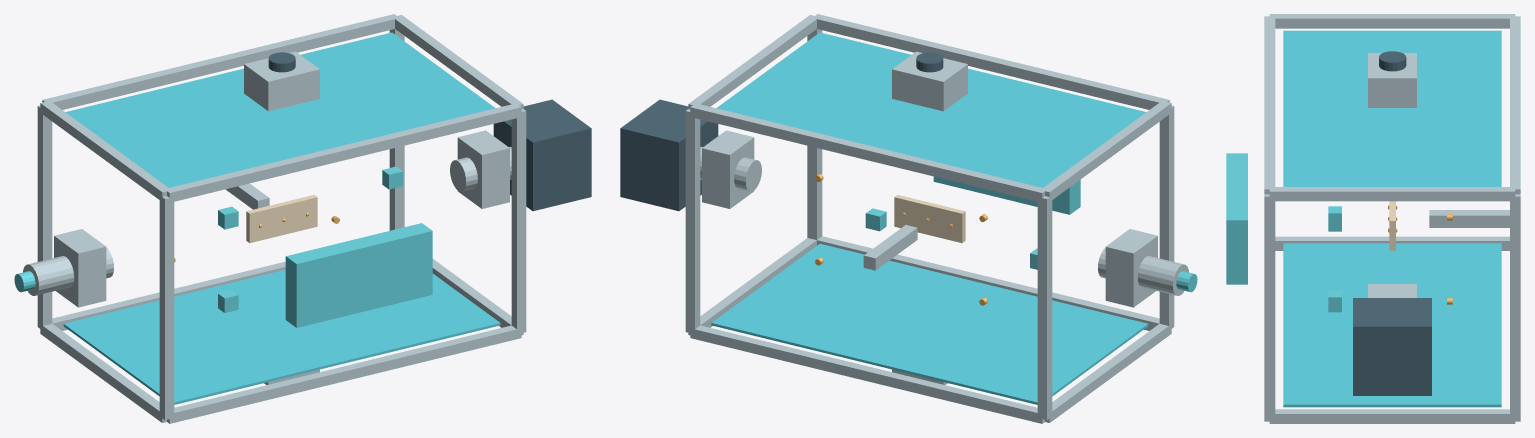
Rendered from EXTINCTION-PATHWAY-MAP-rig.glb.
3 views of the same model, side by side, from view 1: azimuth 30°, elevation 25°; view 2: azimuth 150°, elevation 25°; view 3: azimuth 270°, elevation 25° (orthographic).
Parts seen in each view (by area): view 1: window, frame, oxygen, dark, fuel; view 2: window, frame, dark, fuel, oxygen; view 3: window, frame, dark, oxygen, fuel.
Boxes of the visible parts, x1=… form: window: x1=63, y1=32, x2=500, y2=404; frame: x1=23, y1=14, x2=526, y2=423; oxygen: x1=14, y1=166, x2=432, y2=327; dark: x1=268, y1=52, x2=591, y2=211; fuel: x1=246, y1=194, x2=317, y2=242; window: x1=711, y1=32, x2=1148, y2=404; frame: x1=685, y1=14, x2=1188, y2=423; dark: x1=620, y1=52, x2=943, y2=211; fuel: x1=894, y1=194, x2=965, y2=242; oxygen: x1=865, y1=176, x2=1197, y2=292; window: x1=1283, y1=30, x2=1501, y2=407; frame: x1=1264, y1=14, x2=1520, y2=423; dark: x1=1353, y1=51, x2=1431, y2=395; oxygen: x1=1226, y1=153, x2=1341, y2=312; fuel: x1=1389, y1=201, x2=1395, y2=250.
Bounding box in the file's own units: 0.471 × 0.262 × 0.216.
